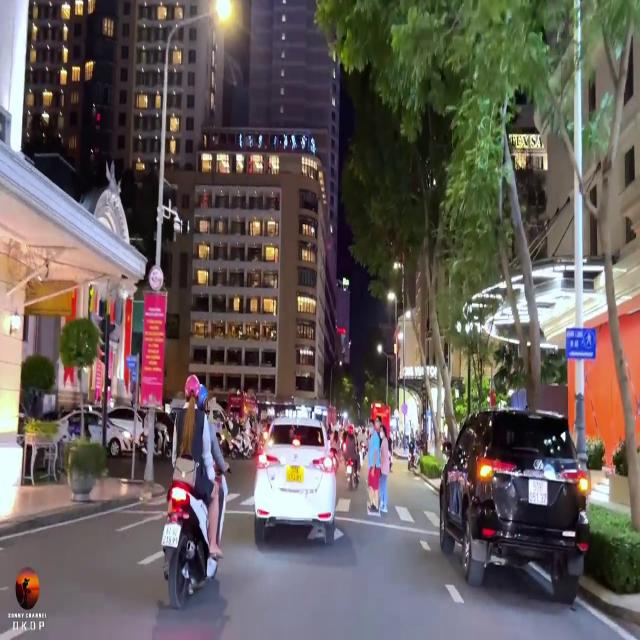bien_trang: (528, 479, 548, 507), (162, 524, 180, 547)
bien_vang: (286, 466, 304, 483)
